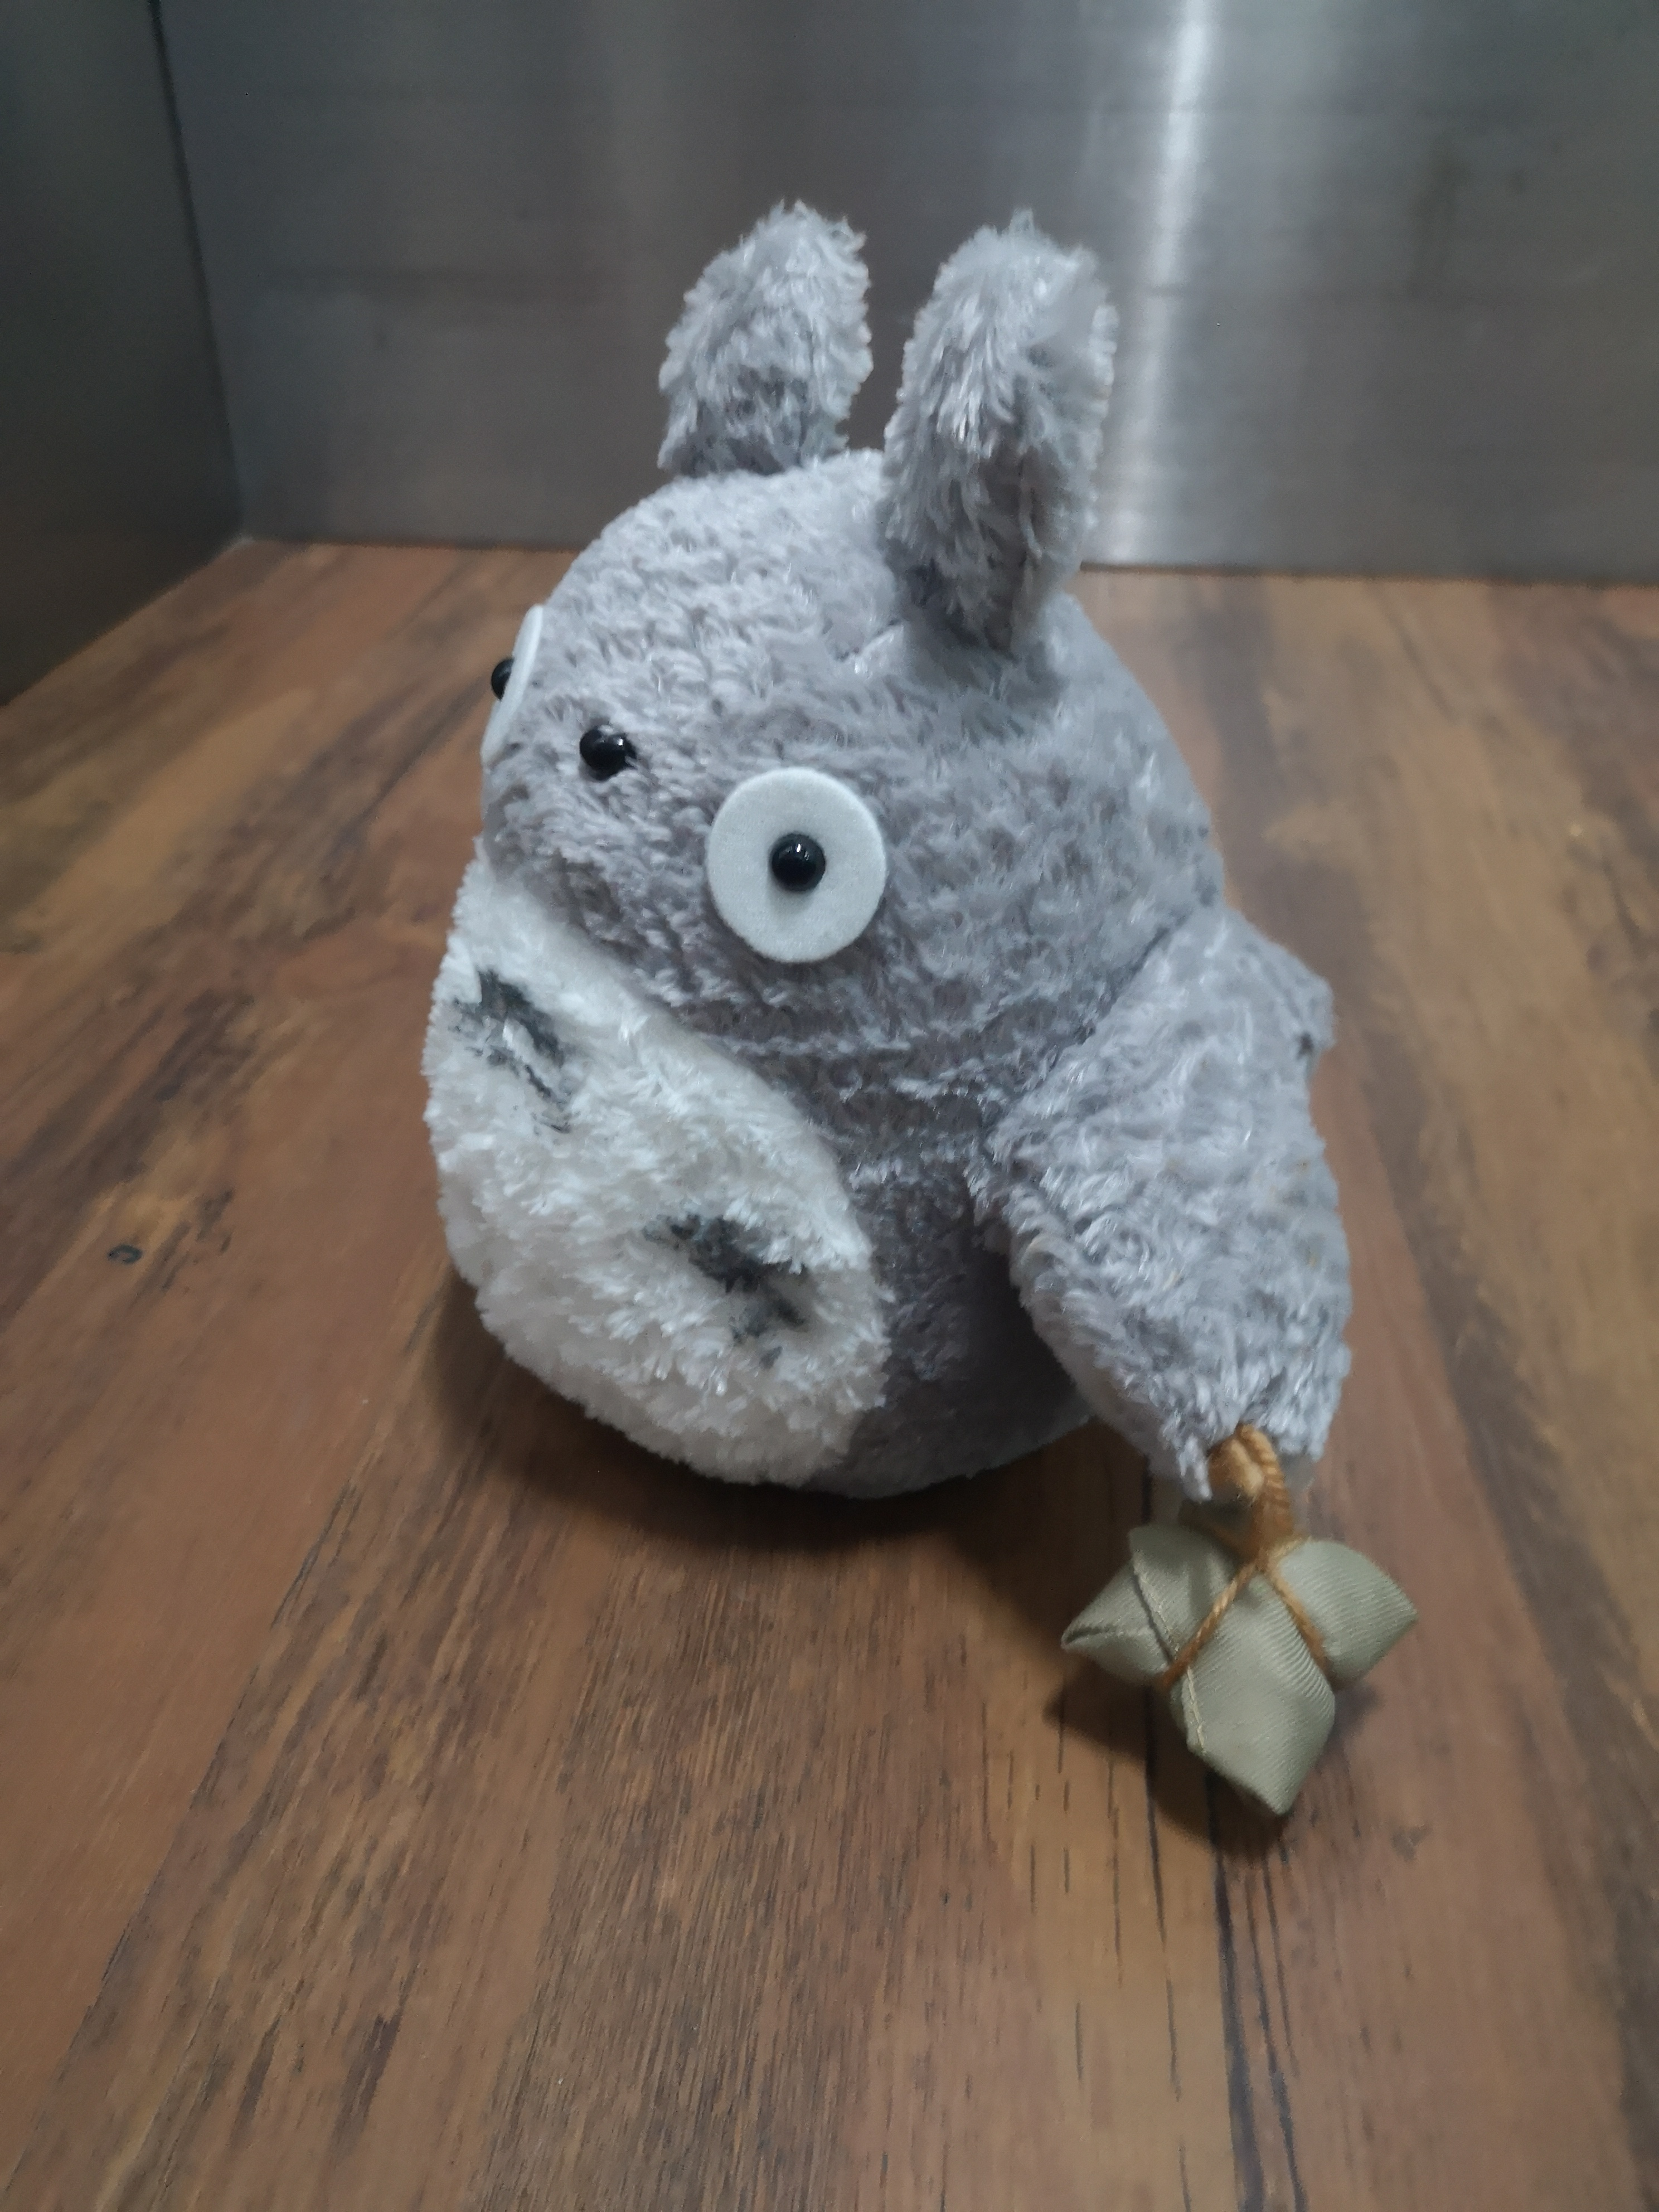totoro: (415, 181, 1432, 1878)
